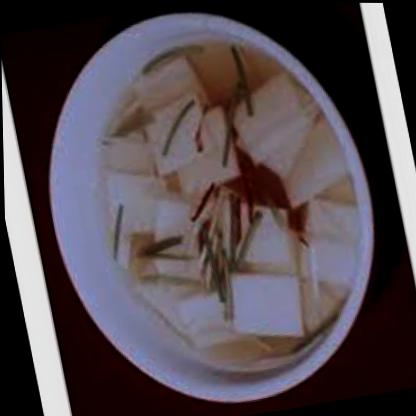nabak Kimchi: (68, 13, 385, 393)
